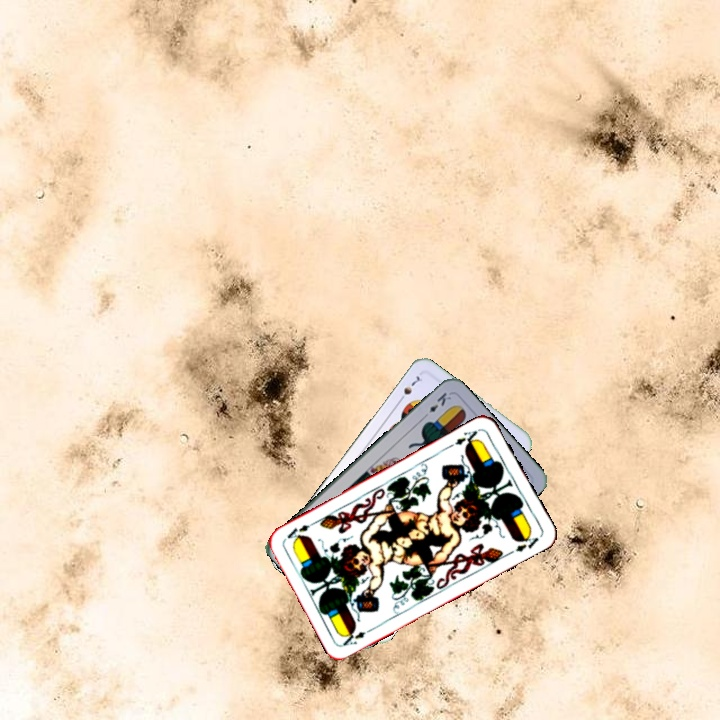EA: (450, 426, 481, 450), (339, 627, 369, 648)
EK: (418, 388, 454, 421)
S7: (394, 371, 425, 405)
